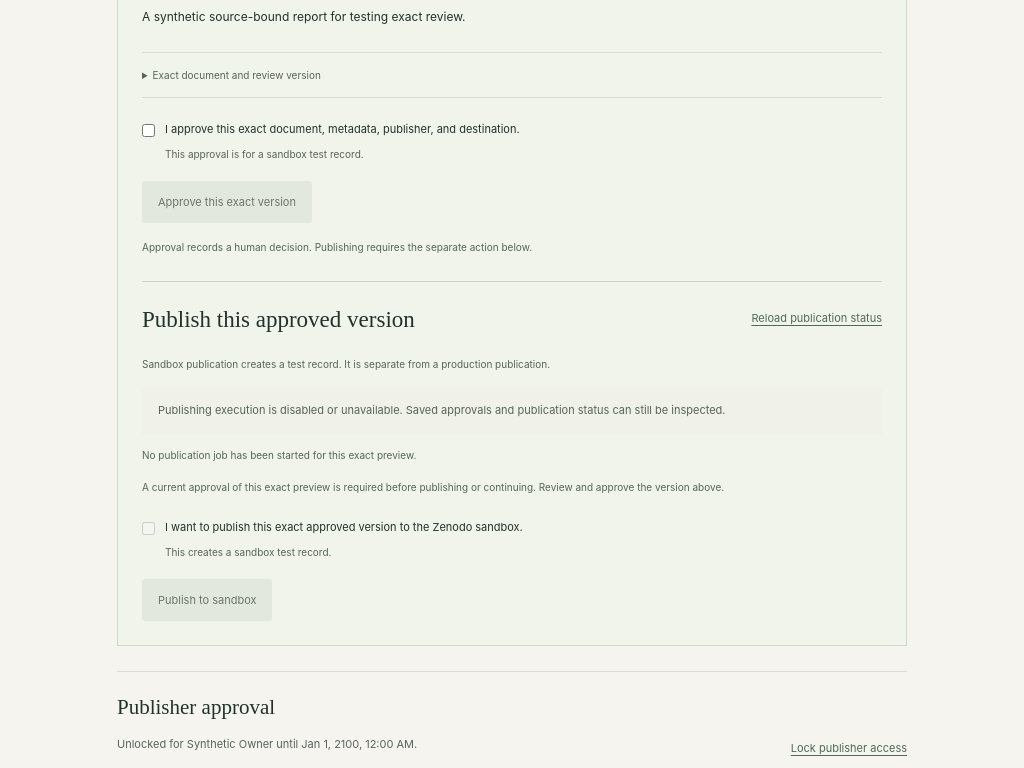
Test case: human approval of exact saved publication versions › locks publisher access while retaining the browser-owned document preview
This screenshot has width=1024, height=768.
(page scrolled)
Click the button "Lock publisher access" at coordinates (849, 748), box [791,735,907,761]
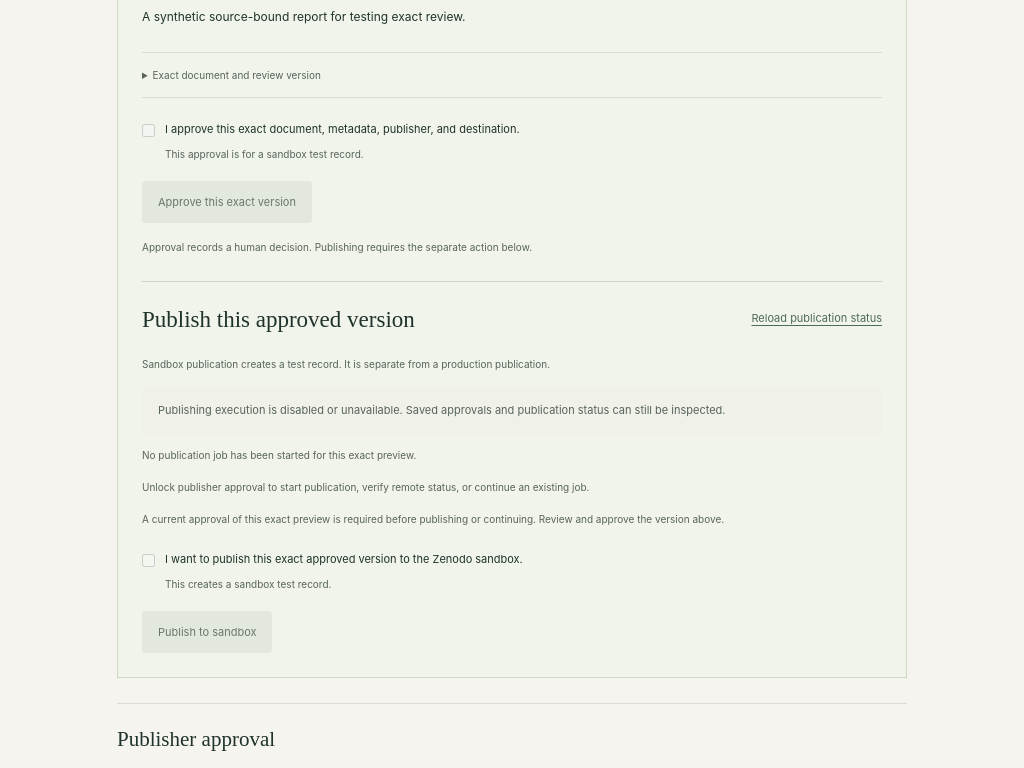
Expected: the checkbox labelled "I approve this exact document, metadata, publisher, and destination" is disabled, [142,124,155,137]
